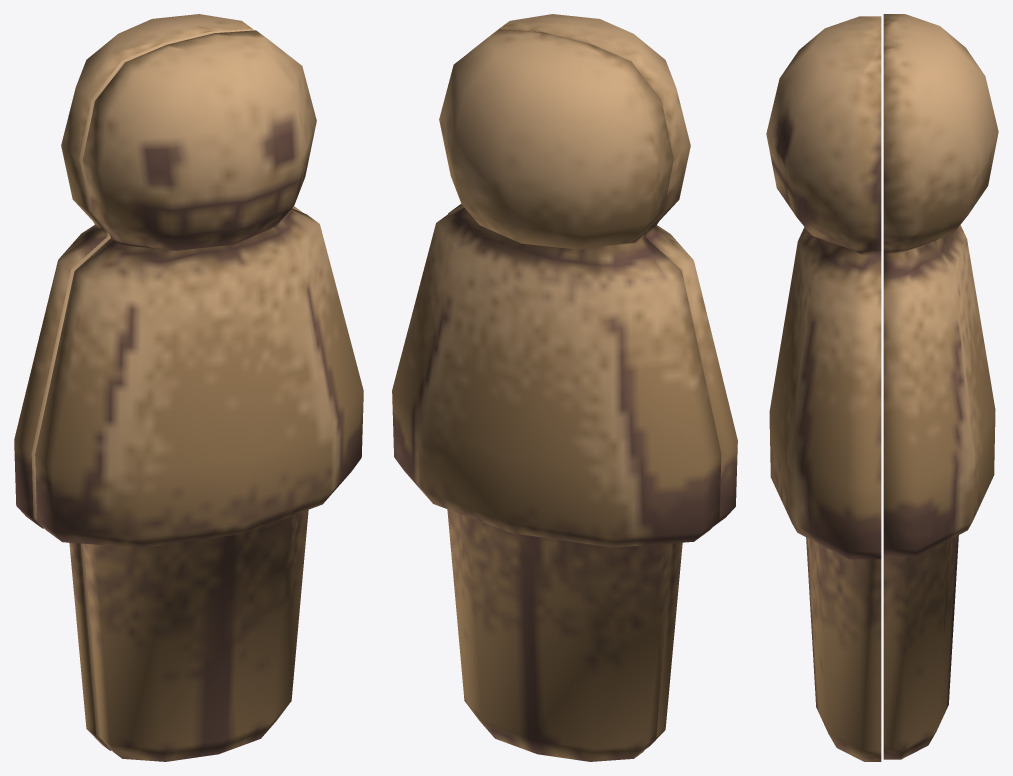
Rendered from sarcophag.glb.
The picture shows the model from 3 angles, left to right: view 1: azimuth 30°, elevation 25°; view 2: azimuth 150°, elevation 25°; view 3: azimuth 270°, elevation 25°; orthographic projection.
Visible parts, largest first — view 1: Circle.001, Coffing; view 2: Coffing, Circle.001; view 3: Coffing, Circle.001.
Part boxes in pixels (x1,y1,x2,y2): Circle.001: (35,30,363,761); Coffing: (14,14,302,750); Coffing: (392,29,721,761); Circle.001: (448,14,737,748); Coffing: (883,14,998,759); Circle.001: (766,16,881,761).
Size of the model in its own units: 3.88 by 8.23 by 2.53.
Materials: 1 (1 with a texture image).
